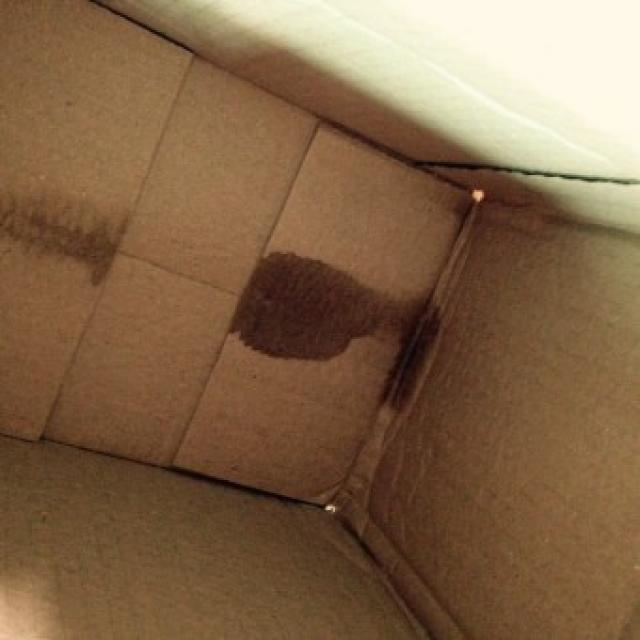wet: (239, 251, 423, 401)
